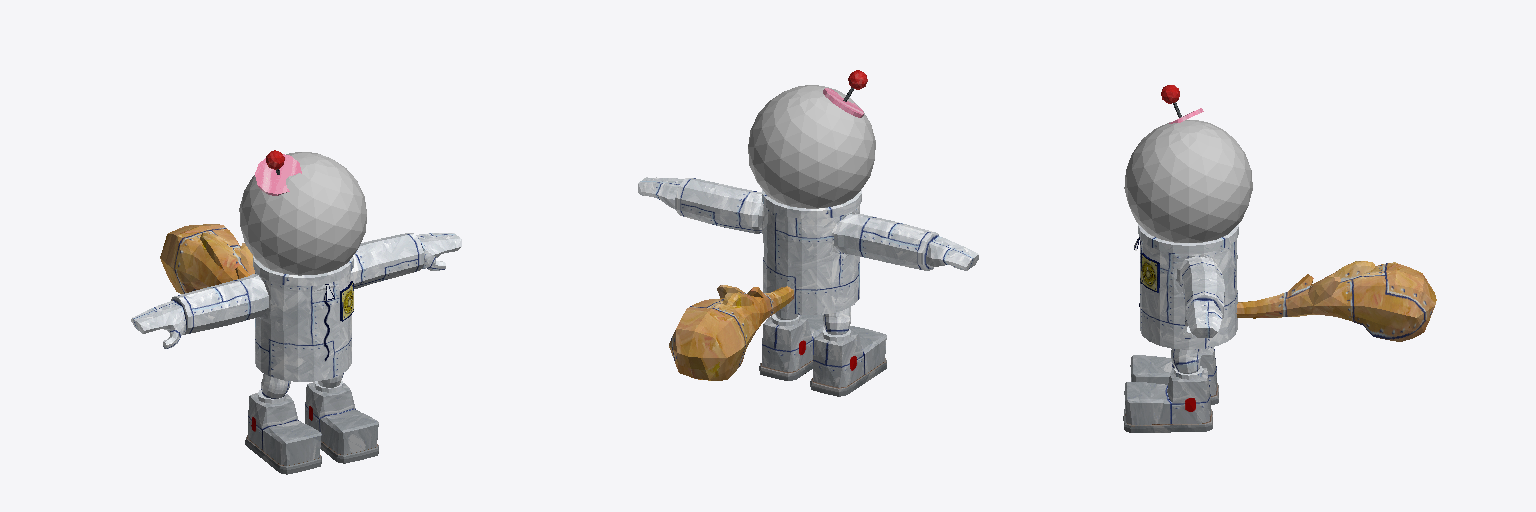
The picture shows the model from 3 angles: view 1: azimuth 30°, elevation 25°; view 2: azimuth 150°, elevation 25°; view 3: azimuth 270°, elevation 25°; orthographic projection.
Visible parts, largest first — view 1: Material_#26, Material_#30, Material_#38; view 2: Material_#26, Material_#30, Material_#38; view 3: Material_#26, Material_#30, Material_#38.
Boxes of the visible parts, x1,y1,x2,y2 form: Material_#26: [131, 150, 461, 474]; Material_#30: [239, 152, 366, 275]; Material_#38: [160, 224, 254, 293]; Material_#26: [638, 70, 978, 396]; Material_#30: [748, 85, 875, 208]; Material_#38: [669, 285, 793, 380]; Material_#26: [1123, 85, 1238, 432]; Material_#30: [1124, 120, 1252, 242]; Material_#38: [1236, 261, 1436, 341].
Bounding box in the file's own units: 64.75 × 57.98 × 53.65.
Materials: 4 (3 with a texture image).